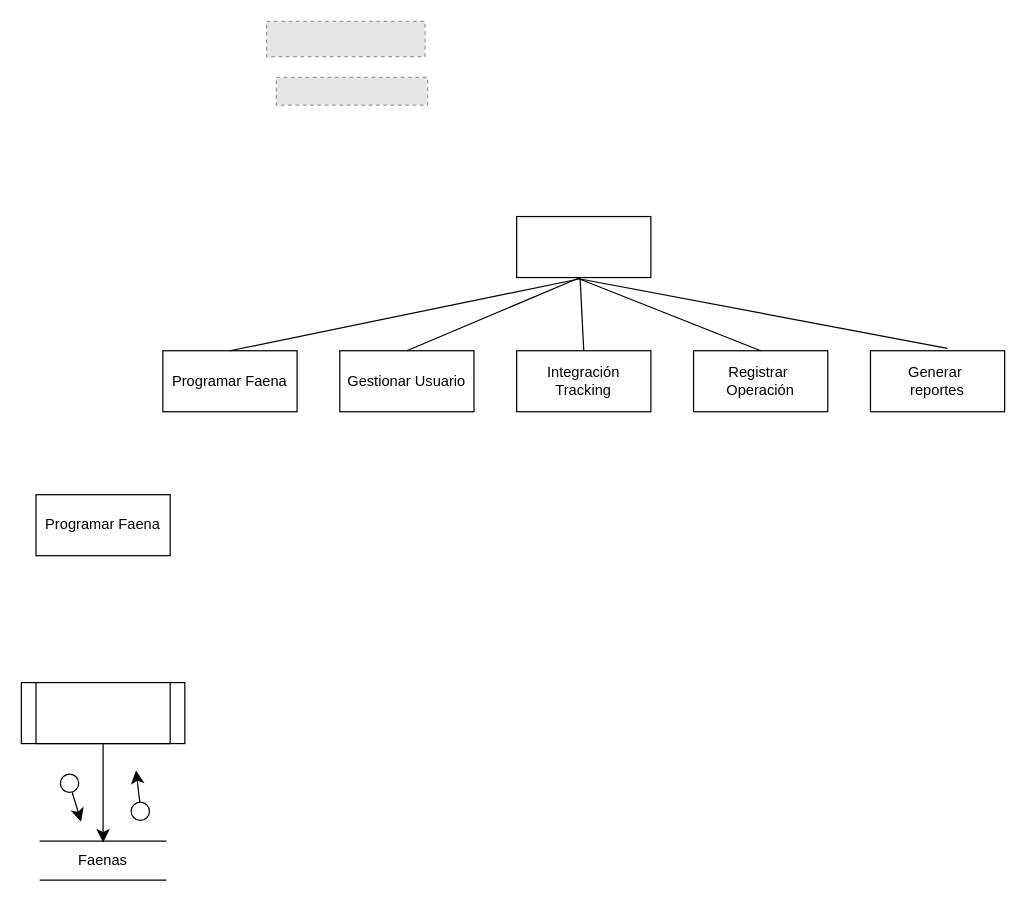
Image size: 1026x903. Some labels were removed from this diagram. Grey dashed boxes stand in for pictures. Each missing label, with the box of its shape:
Almacenar Faena: (35, 681, 170, 744)
Sistema BeeTracer: (515, 215, 651, 278)
